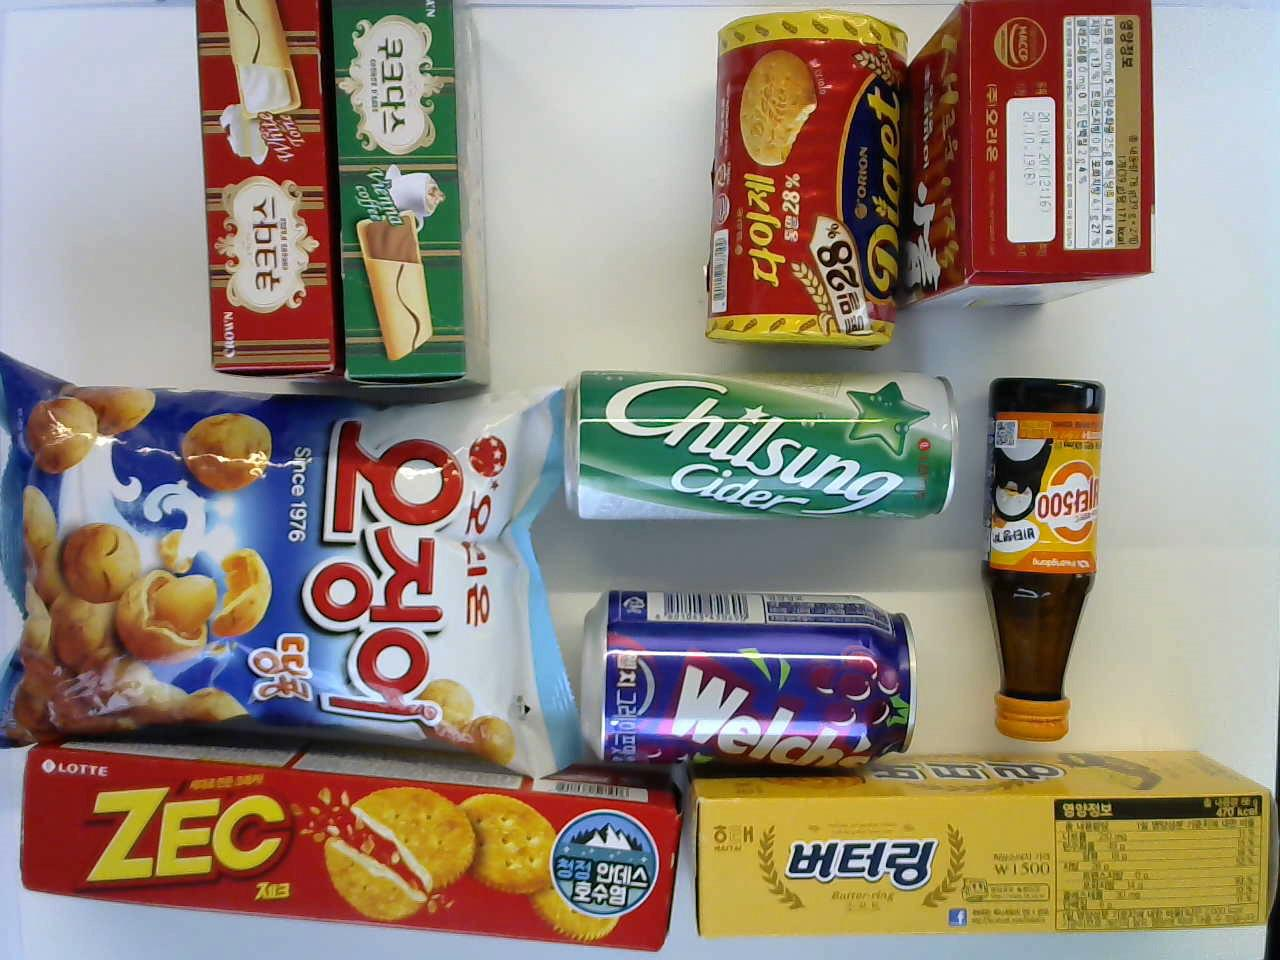buttering: (697, 744, 1274, 939)
chocopie: (902, 0, 1152, 308)
cidar: (561, 372, 957, 517)
couque_coffee: (327, 0, 490, 392)
couque_white: (191, 0, 331, 377)
diget_ori: (707, 10, 903, 344)
squid_peanut: (0, 351, 569, 782)
vita500: (980, 378, 1103, 740)
welchs: (568, 590, 917, 770)
zec: (21, 743, 678, 949)
